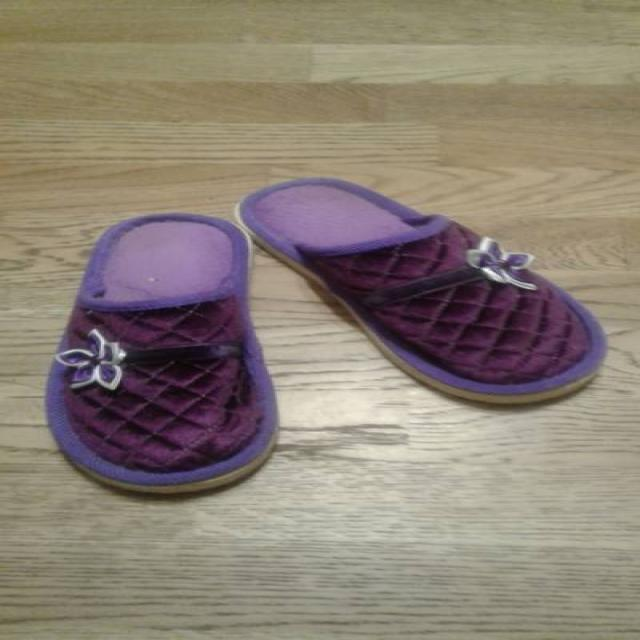non-organik: (42, 161, 610, 498)
